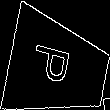P_E: (33, 44, 82, 92)
